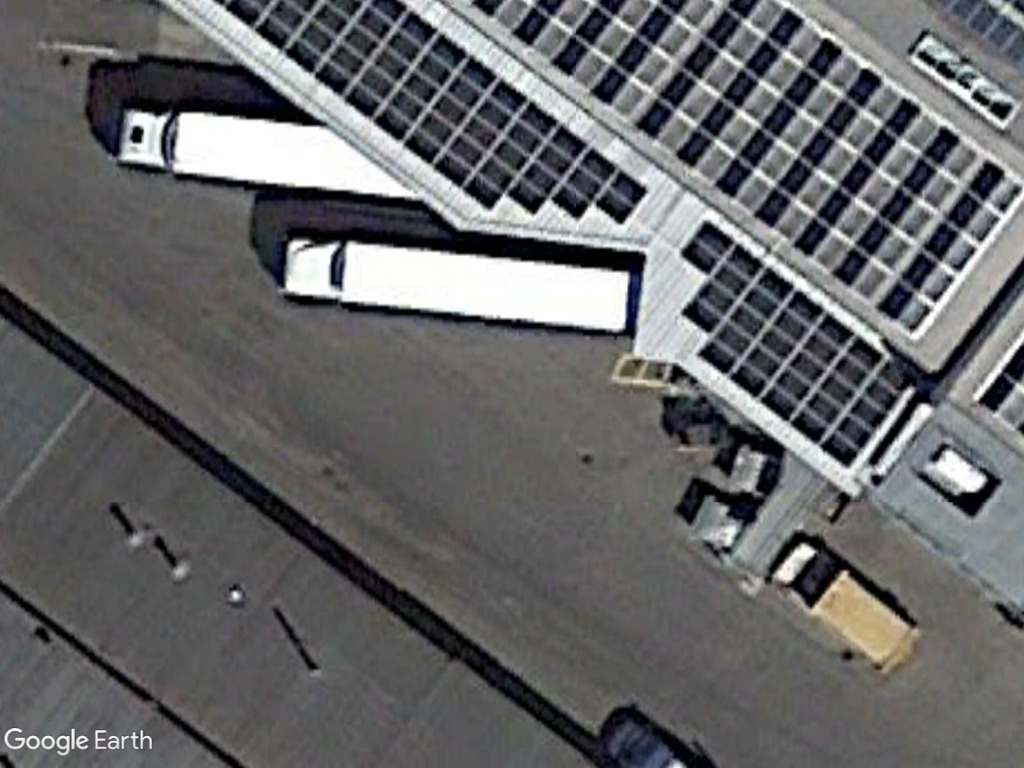longvehicle: (275, 224, 638, 343)
other: (773, 540, 930, 676)
truck: (106, 100, 353, 198)
